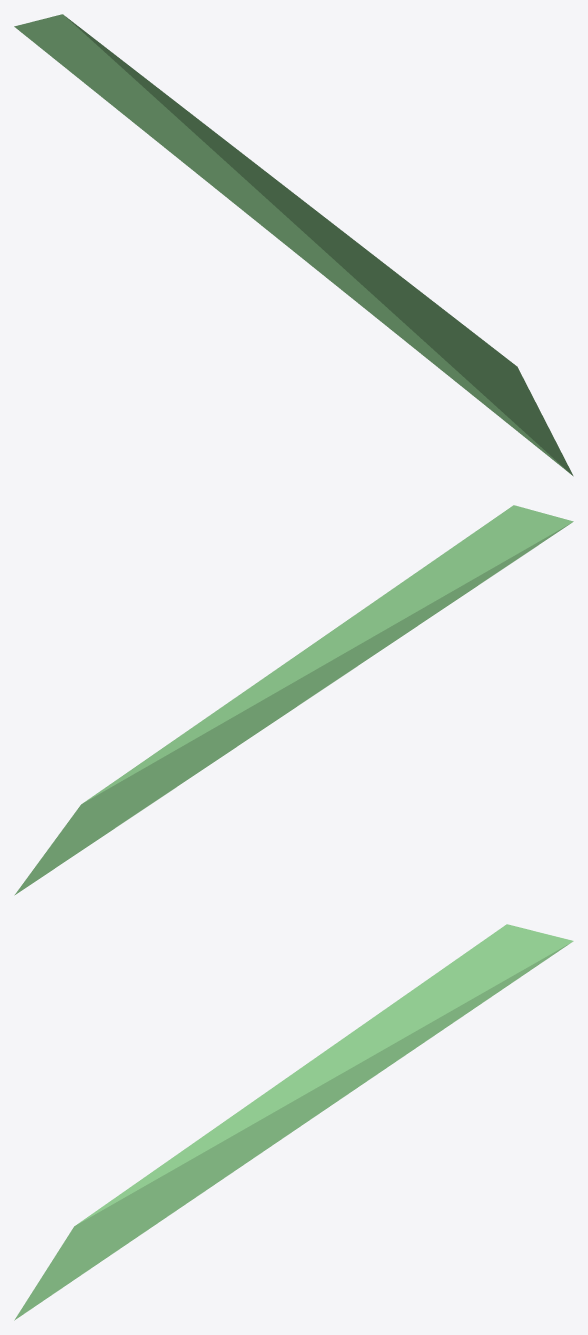
Rendered from linkhou_LR4_R560_link5_respondable_coll_1.dae.
3 views of the same model, one above another, from view 1: azimuth 30°, elevation 25°; view 2: azimuth 150°, elevation 25°; view 3: azimuth 330°, elevation 25° (orthographic). The views are drawn at different scales.
Visible parts, largest first — view 1: Node_00000209DB3ACC00; view 2: Node_00000209DB3ACC00; view 3: Node_00000209DB3ACC00.
Boxes of the visible parts, box(x1,y1,x2,y2) form: Node_00000209DB3ACC00: box(14, 14, 573, 476); Node_00000209DB3ACC00: box(14, 505, 573, 895); Node_00000209DB3ACC00: box(14, 924, 573, 1320).
Size of the model in its own units: 0.000958 by 0.00155 by 0.026.
